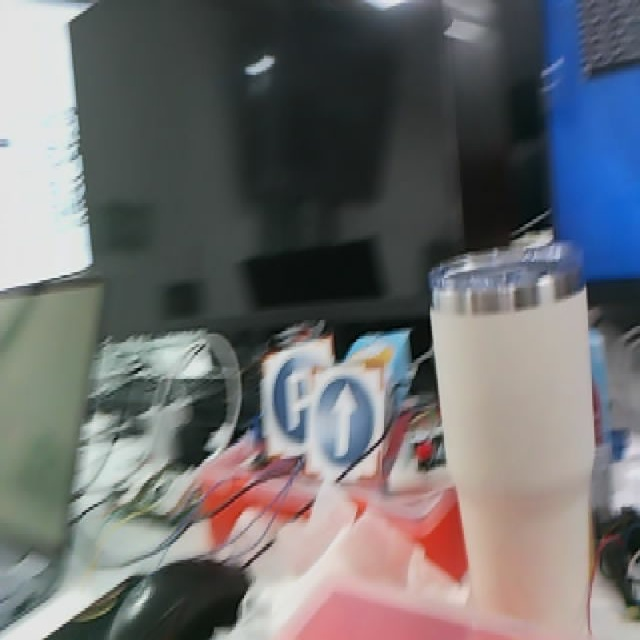parking: (259, 340, 339, 461)
straight: (304, 363, 386, 482)
